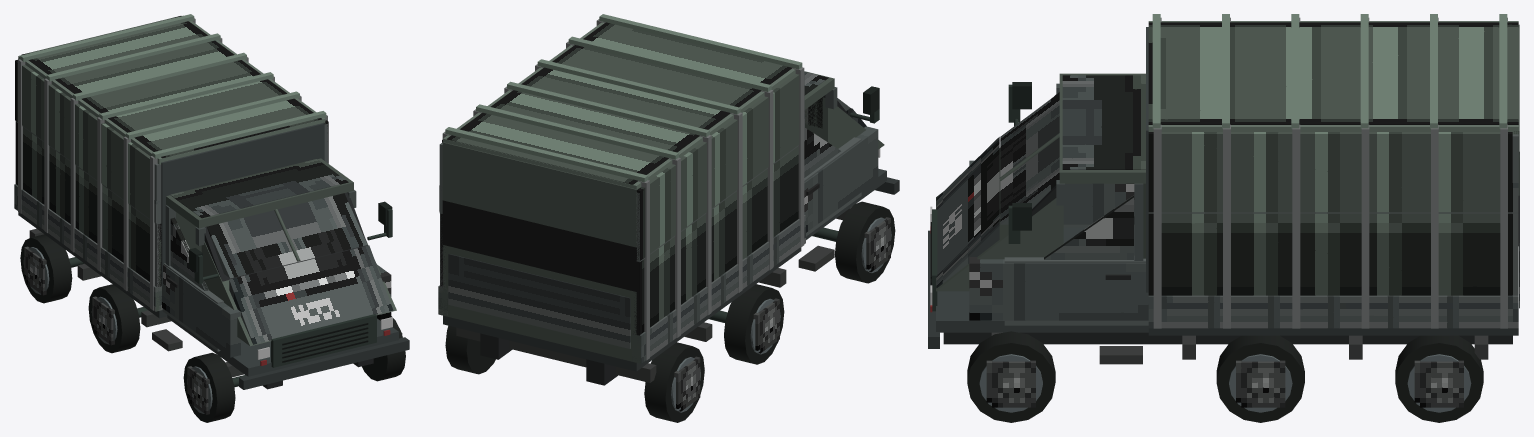
Rendered from CMU3DAU14PropUSCMTroopTruck4Cloud.glb.
3 views of the same model, side by side, from view 1: azimuth 30°, elevation 25°; view 2: azimuth 150°, elevation 25°; view 3: azimuth 270°, elevation 25° (orthographic). The views are drawn at different scales.
Visible parts, largest first — view 1: original broad green canopy roof, original hood insignia, source front windshield black glass, original dark canvas band -1, source green canopy side -1, forward canopy canvas behind cab, original cab roof pressed panel, source cab door details -1, original side sill panel -1, front radiator surround, front bumper, cab roof (+30 smaller); view 2: original broad green canopy roof, rear canvas upper hem, source green canopy side -1, original dark canvas band -1, original tailgate slat pattern, opaque dark rear canvas below hem, tailgate lower panel, original side sill panel -1, source cab door details -1, tire 0 -1, load bed lower floor, tire 1 -1 (+29 smaller); view 3: original broad green canopy roof, original dark canvas band 1, source green canopy side 1, original side sill panel 1, source cab door details 1, original cab roof pressed panel, original hood insignia, source front windshield black glass, right ladder chassis rail, tire 0 1, tire 1 1, tire 2 1 (+34 smaller).
Part boxes in pixels (x1=…): original broad green canopy roof: x1=21, y1=16, x2=321, y2=158; original hood insignia: x1=229, y1=245, x2=393, y2=344; source front windshield black glass: x1=207, y1=193, x2=367, y2=278; original dark canvas band -1: x1=15, y1=122, x2=161, y2=287; source green canopy side -1: x1=15, y1=60, x2=160, y2=223; forward canopy canvas behind cab: x1=161, y1=123, x2=324, y2=286; original cab roof pressed panel: x1=170, y1=159, x2=348, y2=218; source cab door details -1: x1=162, y1=265, x2=240, y2=357; original side sill panel -1: x1=14, y1=184, x2=162, y2=311; front radiator surround: x1=271, y1=314, x2=376, y2=367; front bumper: x1=239, y1=337, x2=409, y2=389; cab roof: x1=166, y1=158, x2=353, y2=228; original broad green canopy roof: x1=447, y1=22, x2=791, y2=184; rear canvas upper hem: x1=442, y1=142, x2=638, y2=247; source green canopy side -1: x1=636, y1=74, x2=804, y2=260; original dark canvas band -1: x1=636, y1=146, x2=798, y2=335; original tailgate slat pattern: x1=448, y1=254, x2=630, y2=348; opaque dark rear canvas below hem: x1=442, y1=200, x2=636, y2=291; tailgate lower panel: x1=443, y1=245, x2=636, y2=362; original side sill panel -1: x1=632, y1=215, x2=805, y2=363; source cab door details -1: x1=804, y1=126, x2=878, y2=232; tire 0 -1: x1=835, y1=201, x2=895, y2=283; load bed lower floor: x1=443, y1=247, x2=801, y2=371; tire 1 -1: x1=724, y1=284, x2=784, y2=364; original broad green canopy roof: x1=1148, y1=22, x2=1518, y2=124; original dark canvas band 1: x1=1148, y1=213, x2=1518, y2=295; source green canopy side 1: x1=1148, y1=132, x2=1518, y2=212; original side sill panel 1: x1=1148, y1=295, x2=1518, y2=328; source cab door details 1: x1=969, y1=257, x2=1148, y2=320; original cab roof pressed panel: x1=1062, y1=75, x2=1145, y2=169; original hood insignia: x1=936, y1=137, x2=999, y2=288; source front windshield black glass: x1=1000, y1=92, x2=1059, y2=224; right ladder chassis rail: x1=943, y1=332, x2=1512, y2=344; tire 0 1: x1=967, y1=331, x2=1055, y2=422; tire 1 1: x1=1216, y1=335, x2=1304, y2=422; tire 2 1: x1=1395, y1=335, x2=1483, y2=422.
Size of the model in its own units: 1.51 by 1.65 by 3.01.
Materials: 33 (11 with a texture image).
